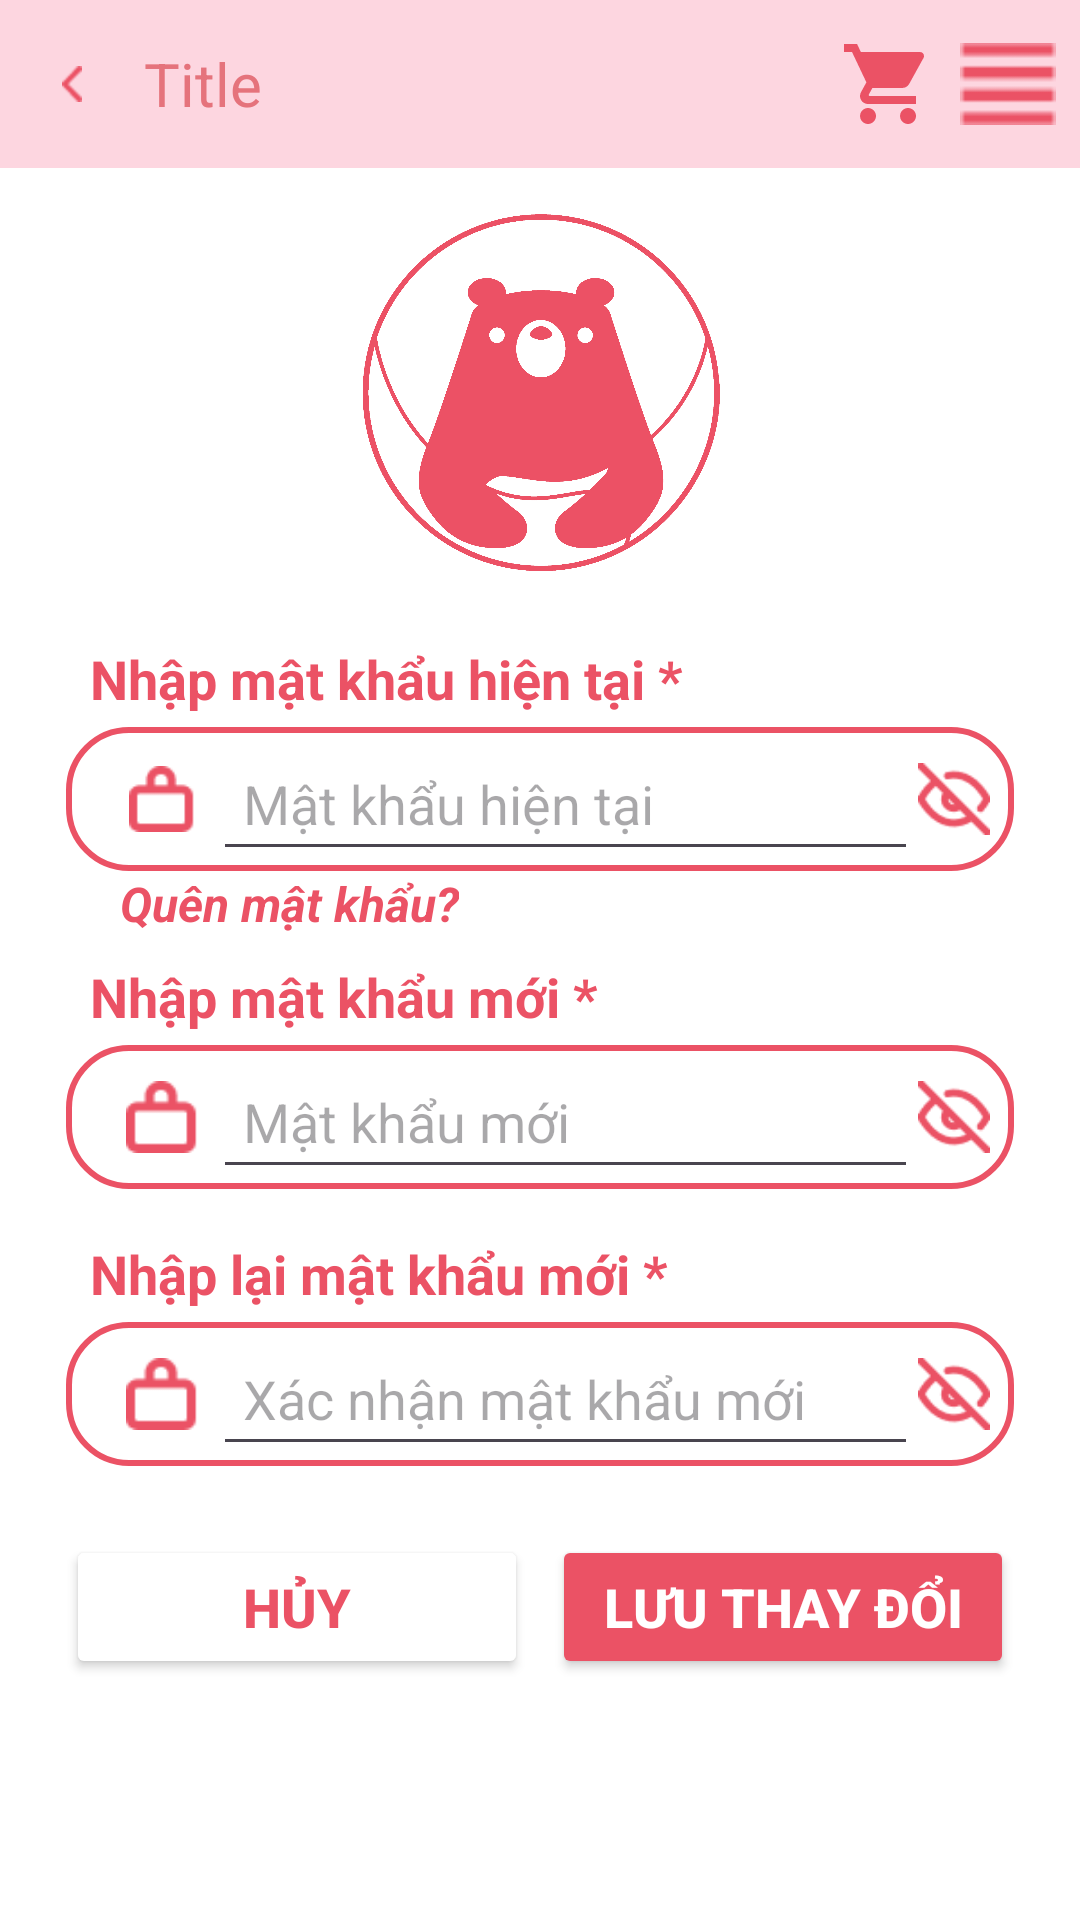

Named icons in this screenshot (1080w x 1920h) and their bounding boxes, (x1, y1, x2, y2):
back: (62, 66, 82, 102)
cart: (844, 44, 924, 124)
menu: (960, 43, 1056, 125)
unshow: (918, 763, 990, 835), (918, 1081, 990, 1153), (918, 1358, 990, 1430)
